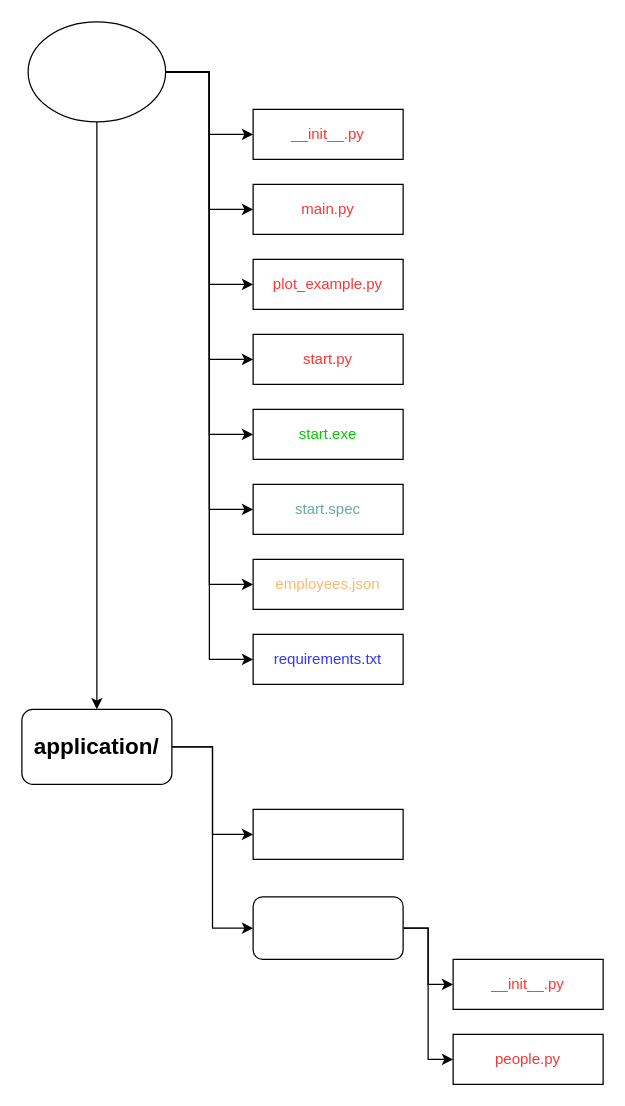
The diagram is 625 pixels wide and 1106 high, and some of its shapes have lost their labels. Here are the shapes that lost their labels. From the top down, the box of each, then its label:
(27, 21, 166, 122): project/
(252, 808, 403, 859): salary.py
(252, 896, 403, 959): db/
